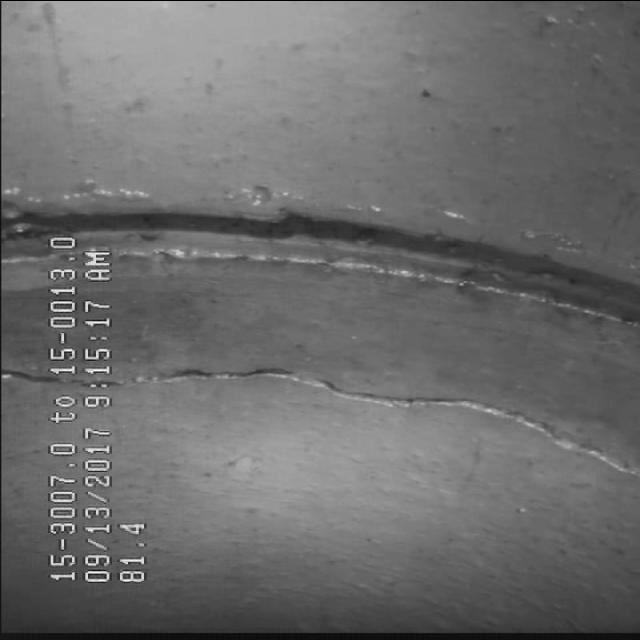Crack: (137, 340, 623, 456)
